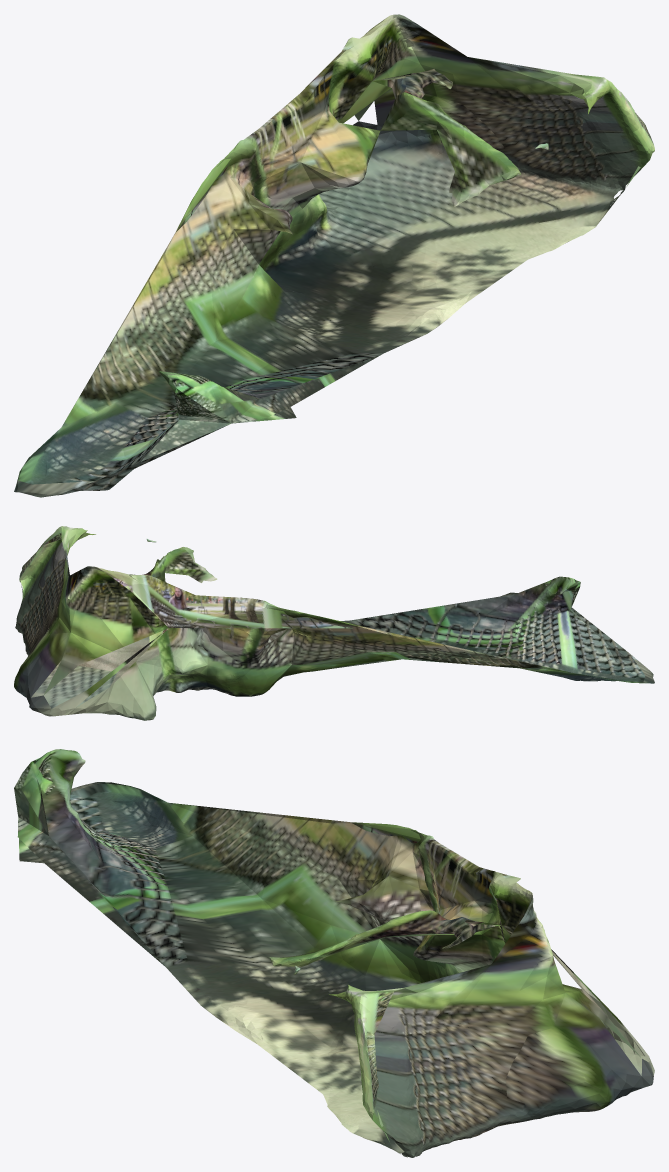
Rendered from scaniverse-2025-05-22-163955.fbx.
3 views of the same model, one above another, from view 1: azimuth 30°, elevation 25°; view 2: azimuth 150°, elevation 25°; view 3: azimuth 270°, elevation 25° (orthographic). The views are drawn at different scales.
Parts seen in each view (by area): view 1: mesh; view 2: mesh; view 3: mesh.
Boxes of the visible parts, x1=… form: mesh: x1=14, y1=14, x2=654, y2=497; mesh: x1=14, y1=526, x2=654, y2=720; mesh: x1=14, y1=749, x2=654, y2=1157.
Size of the model in its own units: 7.97 by 1.84 by 5.57.
1 material, 1 textured.
